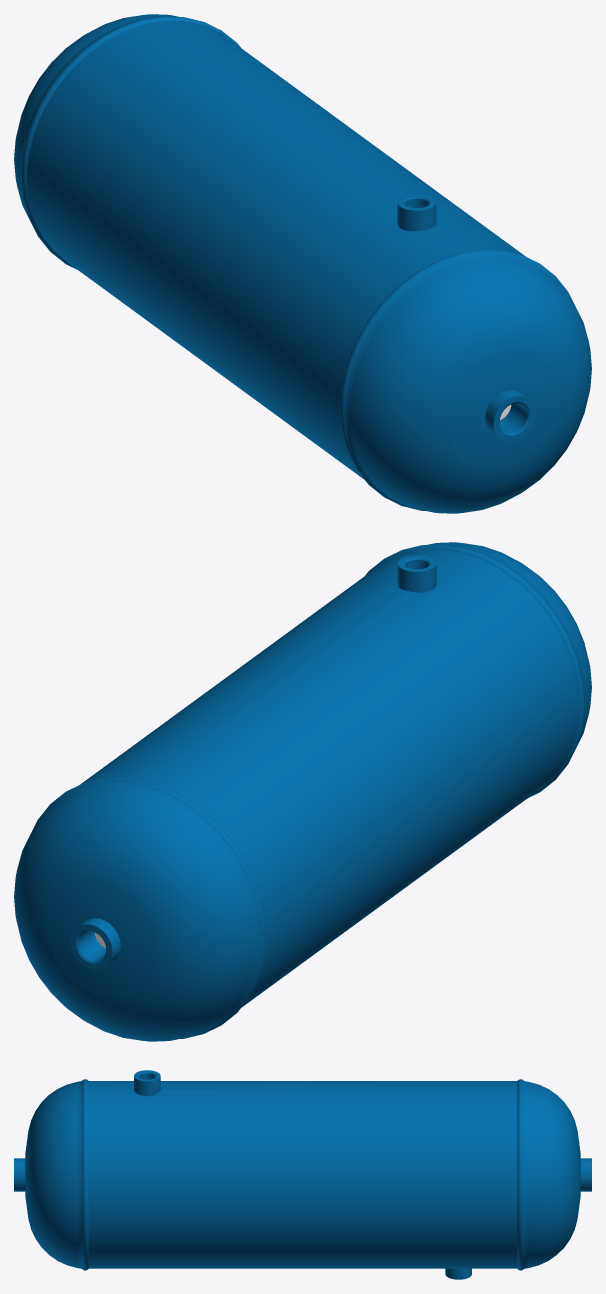
3 views of the same model, one above another, from view 1: azimuth 30°, elevation 25°; view 2: azimuth 150°, elevation 25°; view 3: azimuth 270°, elevation 25° (orthographic). The views are drawn at different scales.
Parts seen in each view (by area): view 1: Group_001, Composant#2_001, Composant#2_002; view 2: Group_001, Composant#2_002, Composant#2_001; view 3: Group_001, Composant#2_002, Composant#2_001.
Part boxes in pixels (x1,y1,x2,y2): Group_001: [26, 21, 525, 478]; Composant#2_001: [339, 249, 591, 513]; Composant#2_002: [14, 14, 240, 269]; Group_001: [80, 549, 579, 1007]; Composant#2_002: [14, 777, 265, 1041]; Composant#2_001: [365, 542, 591, 797]; Group_001: [88, 1070, 517, 1279]; Composant#2_002: [517, 1079, 591, 1270]; Composant#2_001: [14, 1079, 88, 1270].
Size of the model in its own units: 173 by 197 by 520.
